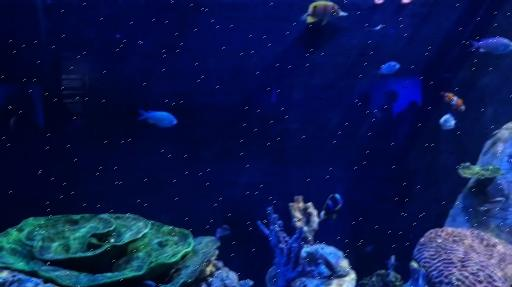Fish: (302, 1, 347, 24), (138, 110, 177, 127), (471, 37, 511, 53), (320, 194, 343, 220), (441, 92, 464, 111), (411, 260, 427, 286), (376, 62, 400, 75), (441, 113, 456, 129), (216, 225, 230, 240)
